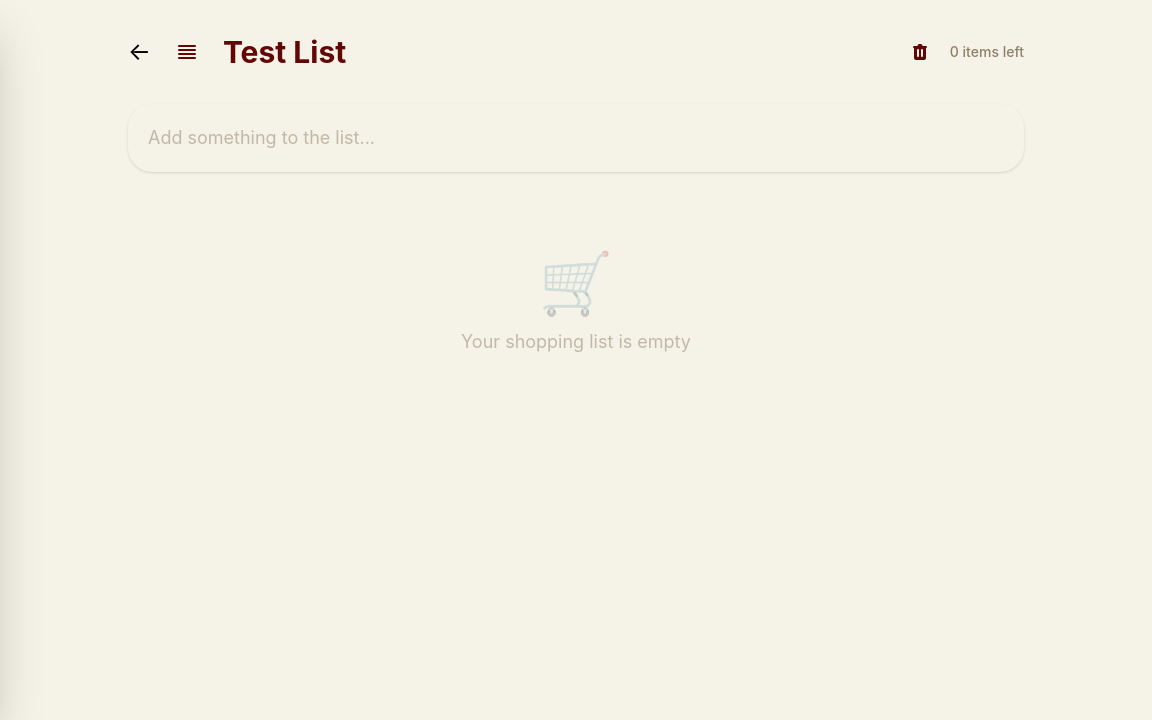
Test case: Shopping Hub — integration flows › create two items → both appear
The width and height of the screenshot is (1152, 720).
Type "milk" into the field with placeholder "Add something to the list..." at (576, 138), box [128,104,1024,172]
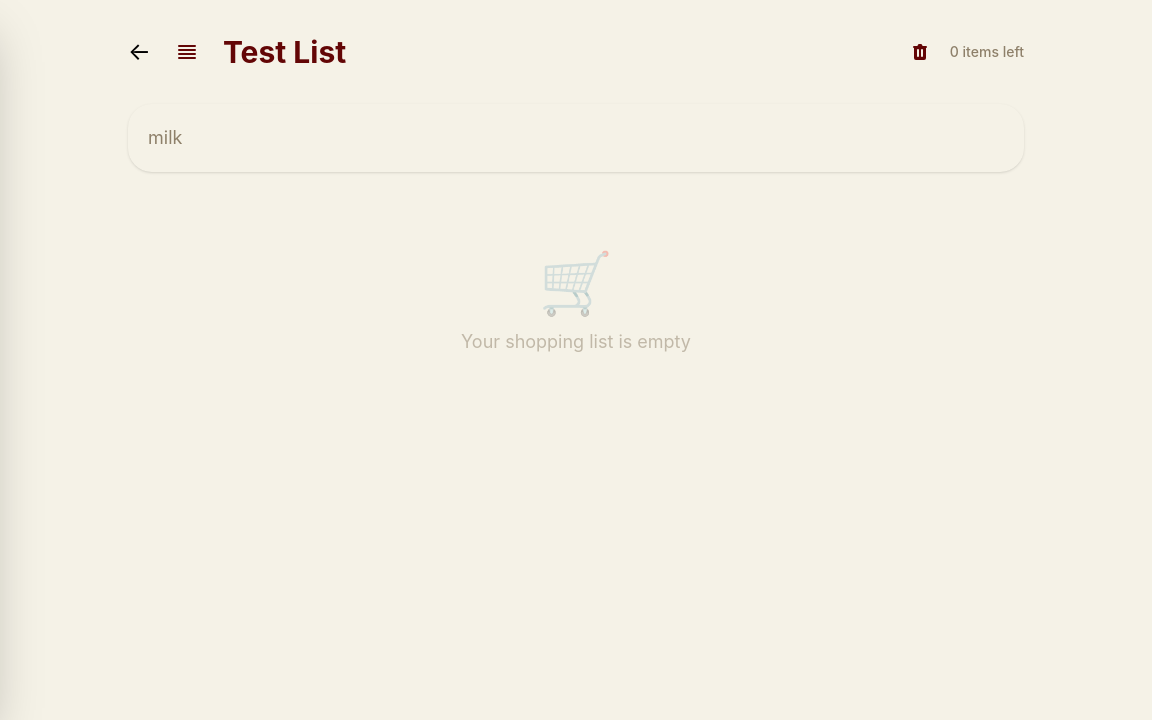
Submit the form with placeholder "add", box [128,104,1024,172]
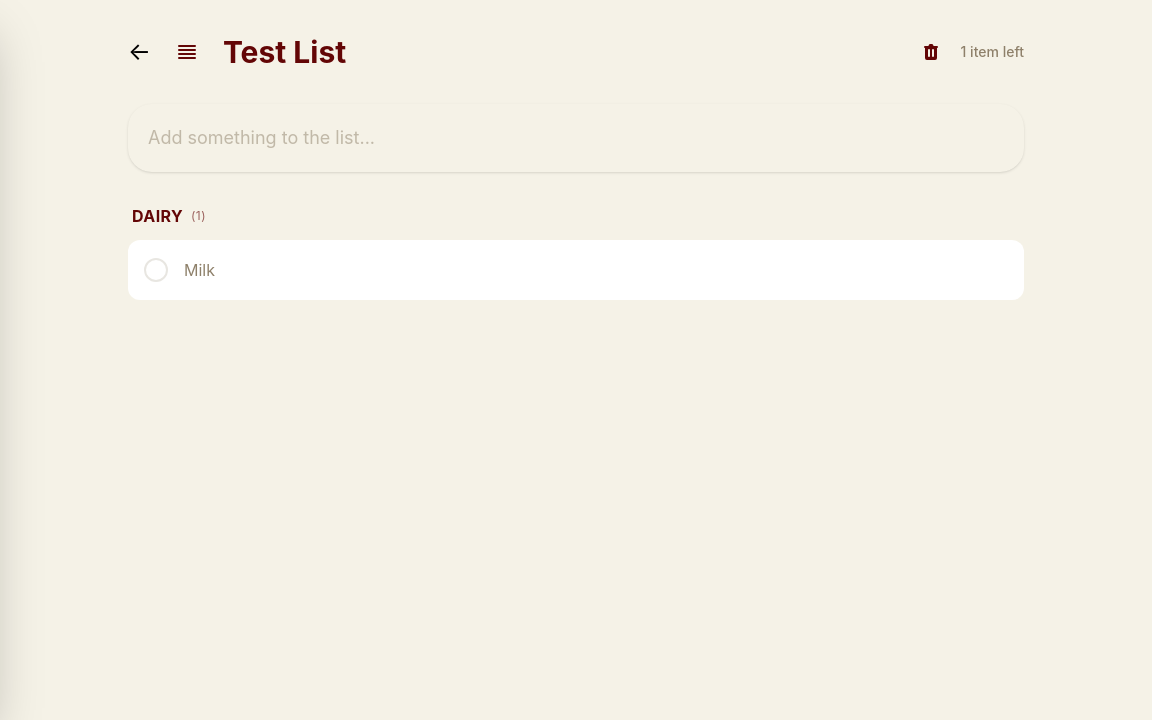
Type "bread" into the field with placeholder "Add something to the list..." at (576, 138), box [128,104,1024,172]
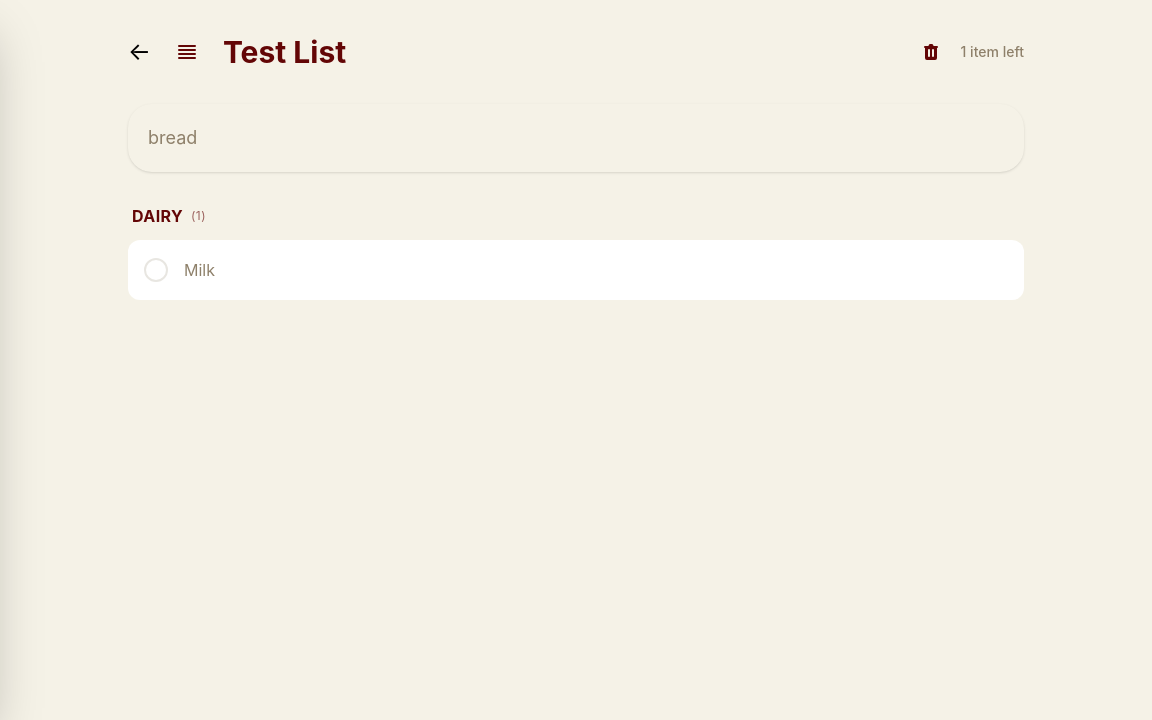
Submit the form with placeholder "add", box [128,104,1024,172]
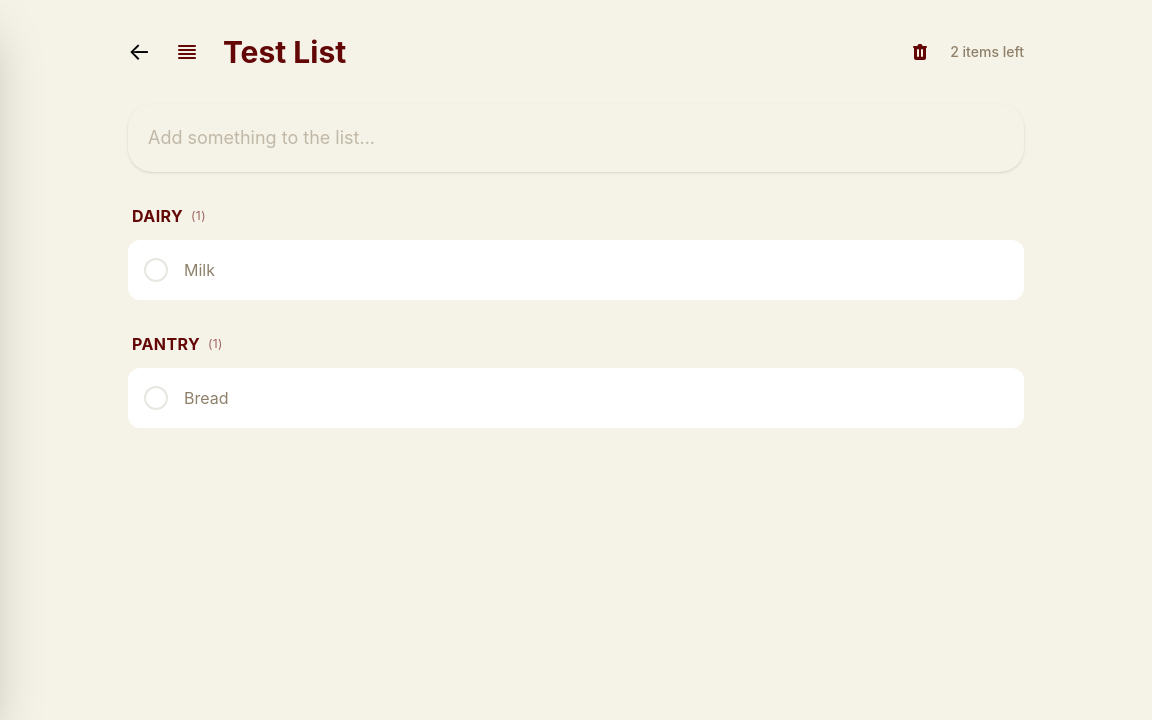
Result: the text "Milk" is shown at [184,260,215,280]
Result: the text "Bread" is shown at [184,388,228,408]
